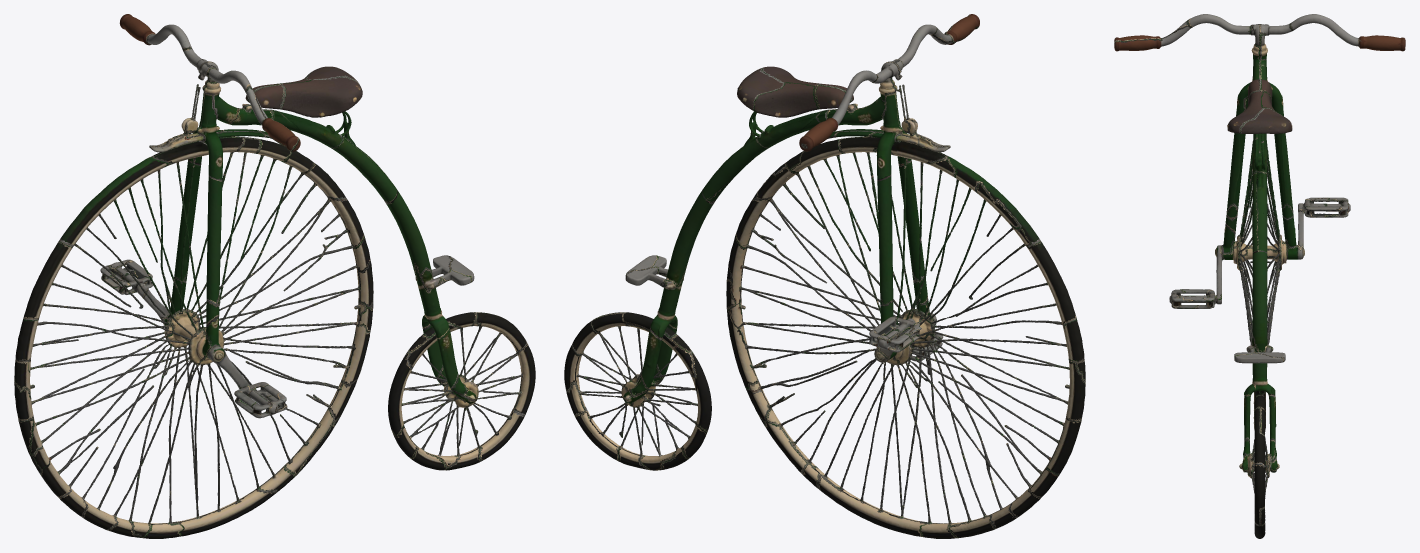
The model's file is penny-farthing.glb.
3 views of the same model, side by side, from view 1: azimuth 30°, elevation 25°; view 2: azimuth 150°, elevation 25°; view 3: azimuth 270°, elevation 25° (orthographic). The views are drawn at different scales.
Parts seen in each view (by area): view 1: tripo_node_16051c0a-54cf-4994-8fca-543f817daa52; view 2: tripo_node_16051c0a-54cf-4994-8fca-543f817daa52; view 3: tripo_node_16051c0a-54cf-4994-8fca-543f817daa52.
Part boxes in pixels (box(x1,y1,x2,y2)): tripo_node_16051c0a-54cf-4994-8fca-543f817daa52: box(14, 14, 535, 538); tripo_node_16051c0a-54cf-4994-8fca-543f817daa52: box(564, 14, 1085, 538); tripo_node_16051c0a-54cf-4994-8fca-543f817daa52: box(1114, 14, 1405, 538).
Bounding box in the file's own units: 1.6 × 1.41 × 0.9056.
1 material, 1 textured.
